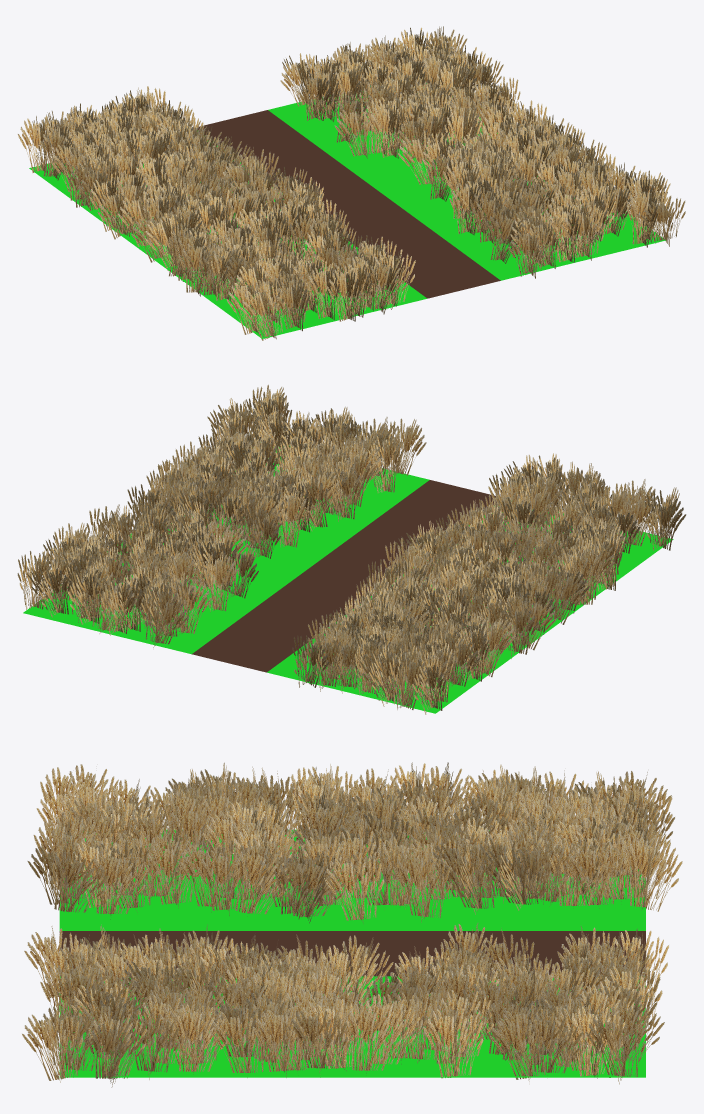
Rendered from wheat field terrain 1.fbx.
The picture shows the model from 3 angles, top to bottom: view 1: azimuth 30°, elevation 25°; view 2: azimuth 150°, elevation 25°; view 3: azimuth 270°, elevation 25°; orthographic projection. The views are drawn at different scales.
Parts seen in each view (by area): view 1: Plain Sides.001, Plain middle.001; view 2: Plain Sides.001, Plain middle.001; view 3: Plain Sides.001, Plain middle.001.
Boxes of the visible parts, box(x1,y1,x2,y2) form: Plain Sides.001: box(17, 26, 685, 340); Plain middle.001: box(197, 110, 500, 298); Plain Sides.001: box(17, 384, 686, 714); Plain middle.001: box(192, 480, 501, 672); Plain Sides.001: box(22, 762, 682, 1087); Plain middle.001: box(59, 931, 645, 976).
Bounding box in the file's own units: 2320 × 301 × 2306.
